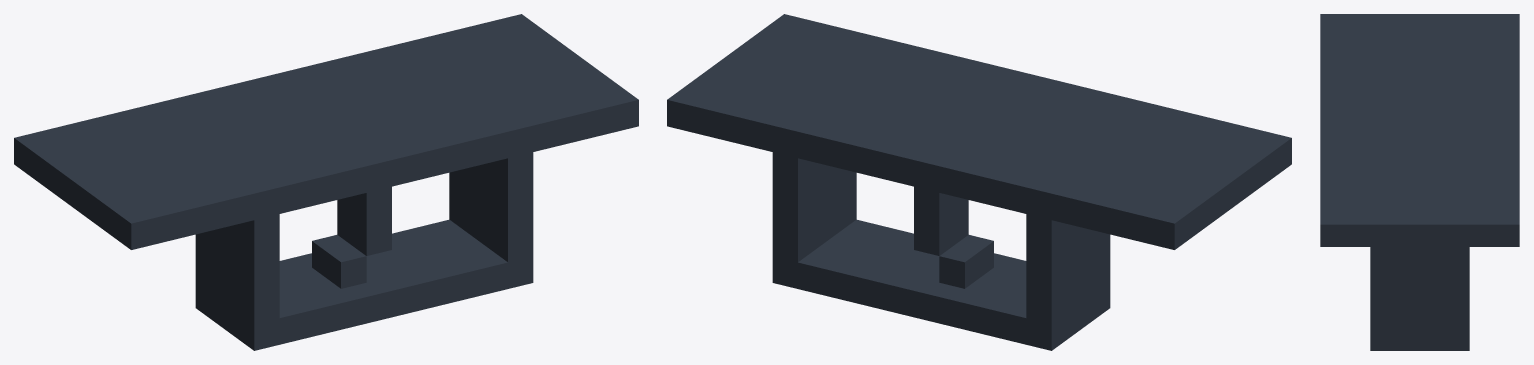
File: lower_pump.glb
3 renders of one model, left to right at view 1: azimuth 30°, elevation 25°; view 2: azimuth 150°, elevation 25°; view 3: azimuth 270°, elevation 25°, orthographic. The views are drawn at different scales.
Visible parts, largest first — view 1: lower_pump:lower; view 2: lower_pump:lower; view 3: lower_pump:lower.
Part boxes in pixels (x1=…): lower_pump:lower: x1=14, y1=14, x2=638, y2=350; lower_pump:lower: x1=667, y1=14, x2=1291, y2=350; lower_pump:lower: x1=1320, y1=14, x2=1519, y2=350.
Bounding box in the file's own units: 0.08 × 0.028 × 0.032.
